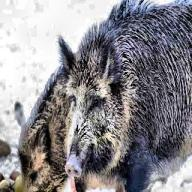boar: (16, 0, 192, 191)
